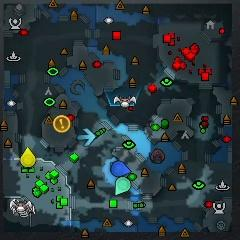Other: (53, 115, 70, 133)
p1: (111, 161, 130, 176)
p2: (115, 177, 130, 196)
p4: (21, 148, 35, 167)
x3: (78, 128, 96, 146)
